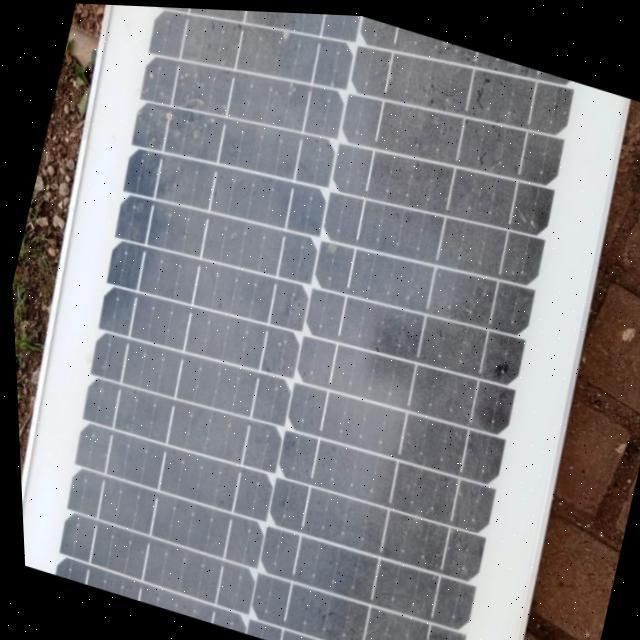Surface Contaminant: (28, 5, 583, 640)
